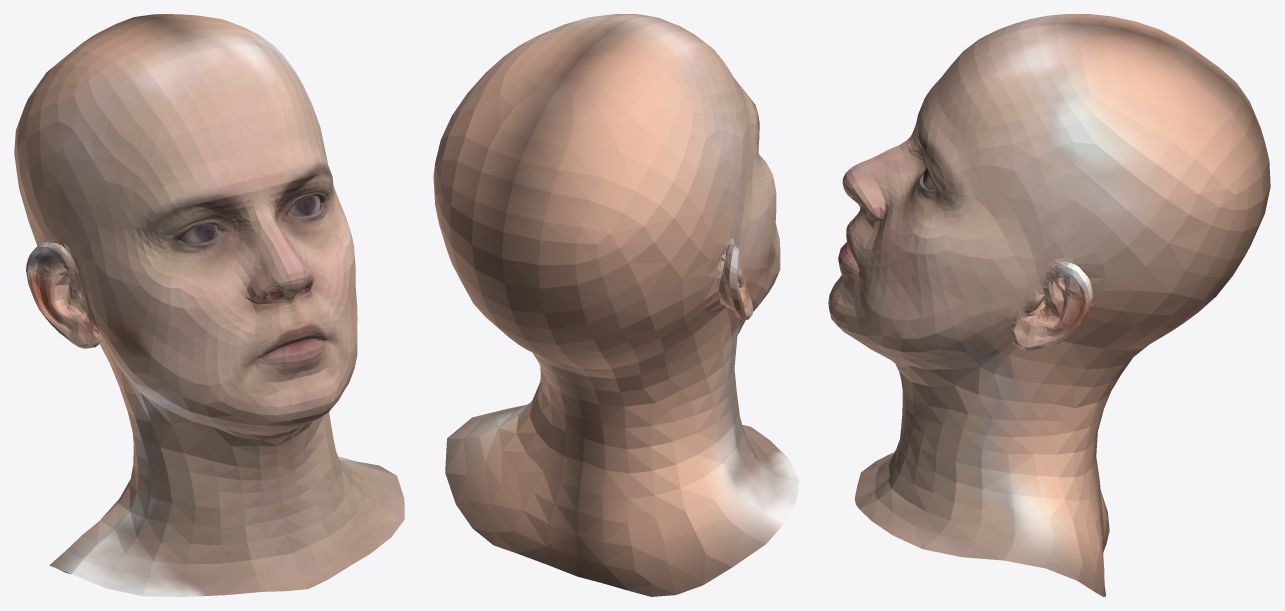
File: frame_00000_1999_rgb_init_all.obj
3 renders of one model, left to right at view 1: azimuth 30°, elevation 25°; view 2: azimuth 150°, elevation 25°; view 3: azimuth 270°, elevation 25°, orthographic.
Size of the model in its own units: 0.2052 by 0.329 by 0.2458.
Materials: 1 (1 with a texture image).
